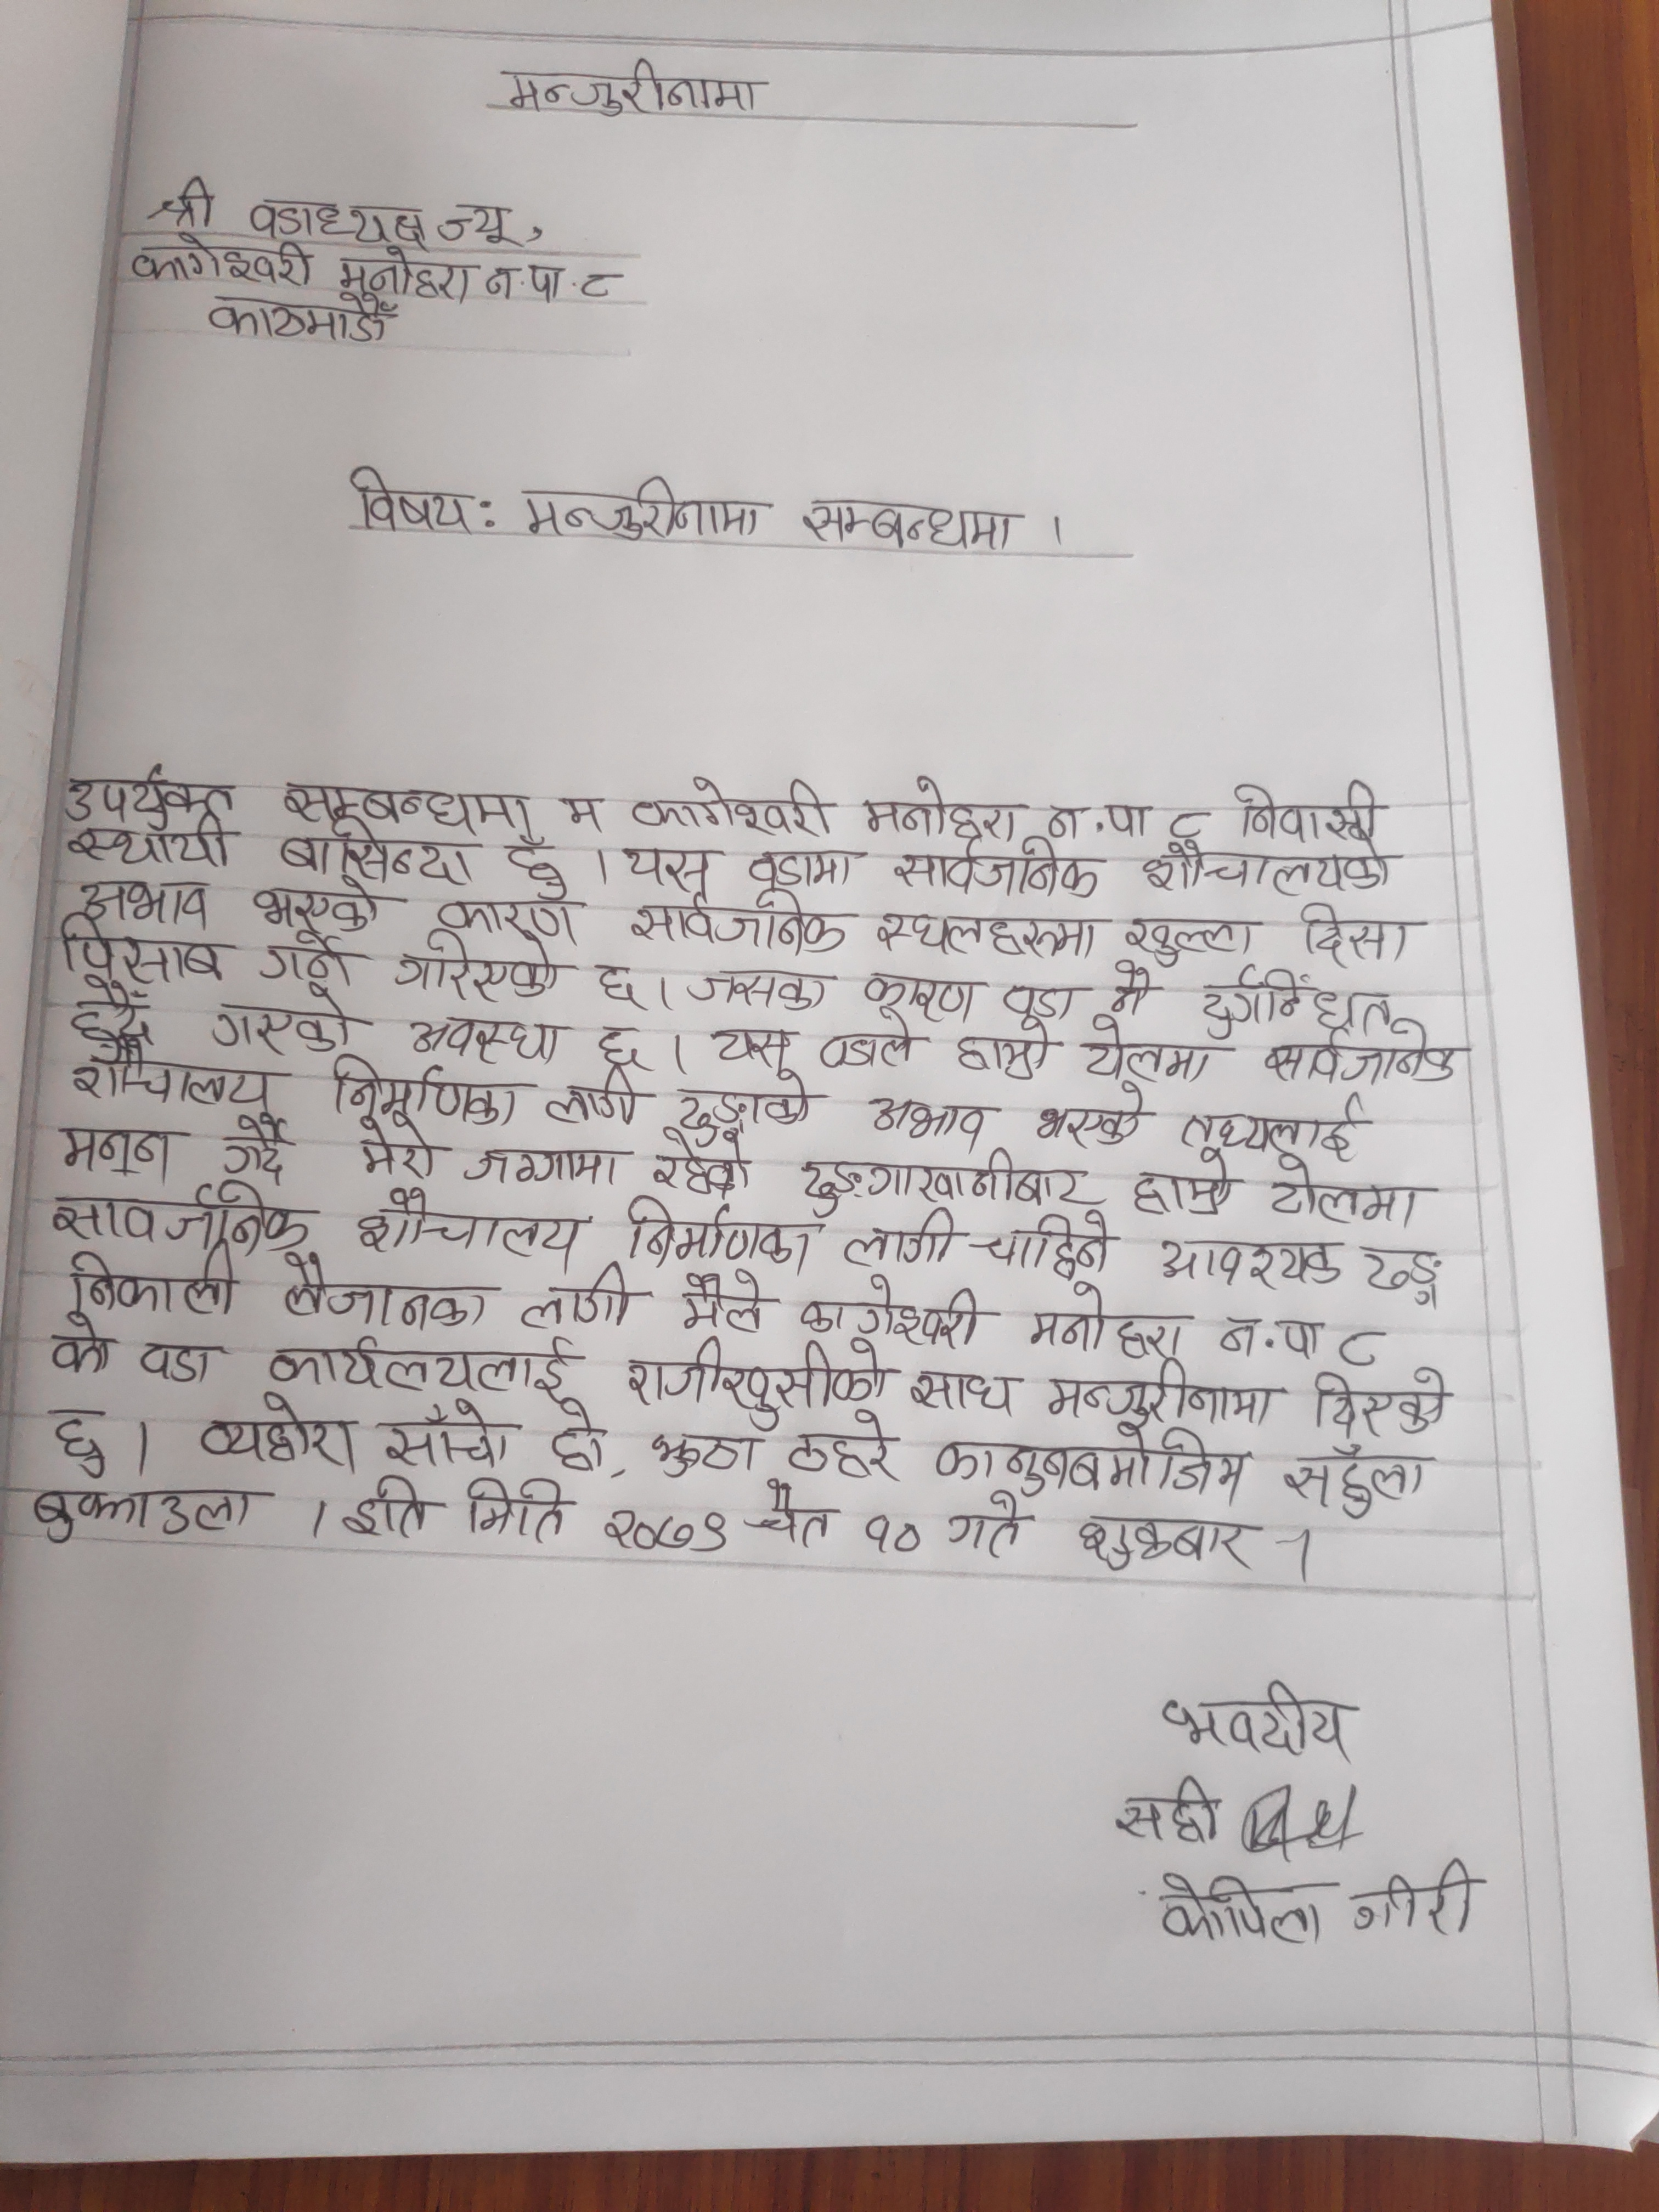text: (931, 1421, 1249, 1501), (263, 1331, 580, 1400), (622, 1343, 885, 1426), (270, 1247, 500, 1332), (514, 470, 774, 545), (798, 1155, 1098, 1219), (497, 54, 770, 122), (28, 1470, 258, 1550), (38, 1188, 321, 1252), (352, 1190, 587, 1264), (1161, 1683, 1359, 1766), (274, 773, 542, 834), (1039, 1359, 1290, 1423), (328, 1050, 519, 1130), (613, 1190, 821, 1263), (59, 1045, 279, 1111), (1192, 963, 1399, 1033), (798, 493, 1021, 557), (627, 779, 854, 841), (1176, 1090, 1371, 1162), (1138, 840, 1396, 894), (803, 1271, 985, 1348), (1147, 1867, 1328, 1944), (622, 895, 847, 956), (864, 906, 1108, 961), (274, 819, 477, 885), (207, 282, 399, 352), (1274, 1439, 1429, 1524), (884, 845, 1114, 902), (1258, 1028, 1473, 1089), (1072, 1507, 1260, 1575), (193, 1397, 361, 1472), (1265, 1153, 1424, 1230), (1155, 1230, 1344, 1294), (1028, 1284, 1188, 1359), (58, 918, 225, 988), (390, 941, 575, 1003), (59, 1251, 244, 1313), (969, 1207, 1124, 1280), (1349, 1855, 1481, 1940), (676, 1068, 817, 1146), (61, 765, 242, 826), (247, 190, 432, 249), (854, 786, 1032, 846), (408, 1000, 565, 1068), (209, 989, 366, 1054), (373, 1395, 514, 1467), (347, 465, 481, 540), (1230, 779, 1385, 843), (1309, 1366, 1455, 1433), (1121, 900, 1274, 965), (127, 242, 321, 293), (1127, 1148, 1251, 1224), (457, 1470, 573, 1550), (1077, 1015, 1218, 1082), (246, 878, 394, 941), (63, 819, 237, 871), (1033, 1080, 1154, 1151), (1298, 895, 1420, 965), (674, 965, 836, 1017), (601, 1503, 735, 1566), (514, 1268, 641, 1332), (71, 873, 218, 928), (432, 892, 592, 942), (58, 1115, 176, 1183), (331, 249, 479, 303), (835, 1211, 965, 1271), (1114, 1778, 1225, 1848), (868, 1087, 992, 1150), (854, 965, 981, 1024), (1358, 1235, 1453, 1312), (786, 1418, 910, 1477), (647, 1137, 762, 1200), (464, 1146, 627, 1190), (61, 977, 157, 1050), (749, 1479, 836, 1559), (340, 1475, 437, 1547), (943, 1021, 1060, 1080), (538, 1068, 641, 1134), (483, 256, 622, 305), (350, 1115, 443, 1186), (673, 1270, 772, 1336), (246, 935, 382, 982), (946, 1489, 1032, 1562), (823, 1014, 927, 1073), (1215, 1312, 1324, 1367), (746, 841, 864, 892), (648, 1428, 762, 1480), (904, 1366, 1021, 1416), (38, 1305, 115, 1379), (216, 1115, 296, 1184), (1044, 796, 1154, 846), (992, 972, 1087, 1028), (694, 1017, 798, 1068), (497, 834, 573, 900), (136, 1336, 223, 1393), (626, 841, 716, 895), (545, 1397, 610, 1472), (146, 172, 225, 232), (430, 195, 519, 247), (54, 1400, 113, 1479), (1100, 967, 1166, 1019), (854, 1512, 927, 1559), (592, 1019, 655, 1073), (1328, 1322, 1389, 1372), (587, 961, 648, 1010), (554, 787, 610, 836), (1166, 806, 1223, 845)
